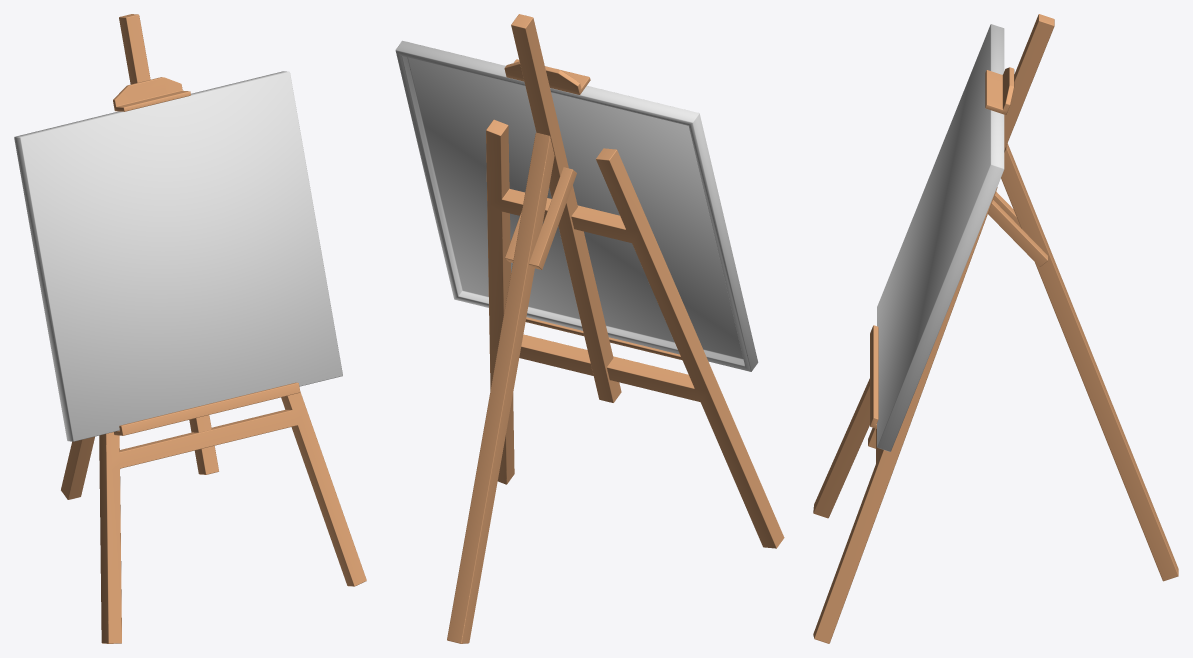
File: easel.fbx
3 views of the same model, side by side, from view 1: azimuth 30°, elevation 25°; view 2: azimuth 150°, elevation 25°; view 3: azimuth 270°, elevation 25° (orthographic). The views are drawn at different scales.
Parts seen in each view (by area): view 1: canvas, easel; view 2: canvas, easel; view 3: easel, canvas.
Boxes of the visible parts, box(x1,y1,x2,y2) form: canvas: box(14, 71, 342, 441); easel: box(61, 14, 366, 643); canvas: box(395, 40, 758, 371); easel: box(447, 14, 784, 643); easel: box(813, 14, 1178, 643); canvas: box(877, 24, 1004, 451).
Size of the model in its own units: 129 by 240 by 142.
